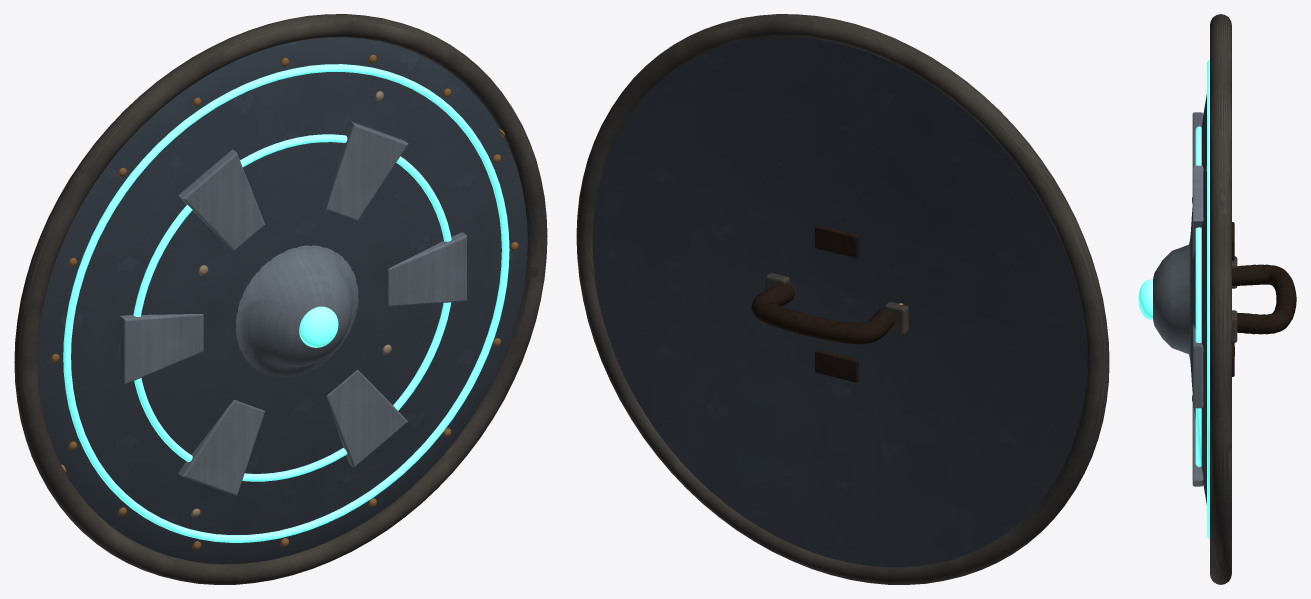
The model's file is kinetic-disc.glb.
3 renders of one model, left to right at view 1: azimuth 30°, elevation 25°; view 2: azimuth 150°, elevation 25°; view 3: azimuth 270°, elevation 25°, orthographic. The views are drawn at different scales.
Visible parts, largest first — view 1: ceramic / ceramic composite panel, alloy / machined anodized alloy, iron / hammer-scaled wrought iron, energy / emissive field channel, bronze / cast bronze with patina; view 2: ceramic / ceramic composite panel, iron / hammer-scaled wrought iron, leather / oiled leather wrap; view 3: iron / hammer-scaled wrought iron, alloy / machined anodized alloy, energy / emissive field channel, leather / oiled leather wrap, ceramic / ceramic composite panel.
Part boxes in pixels (x1,y1,x2,y2): ceramic / ceramic composite panel: [37, 37, 527, 564]; alloy / machined anodized alloy: [119, 121, 466, 495]; iron / hammer-scaled wrought iron: [14, 14, 547, 584]; energy / emissive field channel: [63, 64, 509, 542]; bronze / cast bronze with patina: [50, 54, 518, 550]; ceramic / ceramic composite panel: [592, 36, 1086, 567]; iron / hammer-scaled wrought iron: [576, 14, 1109, 584]; leather / oiled leather wrap: [751, 225, 894, 382]; iron / hammer-scaled wrought iron: [1210, 14, 1237, 584]; alloy / machined anodized alloy: [1153, 112, 1203, 486]; energy / emissive field channel: [1138, 60, 1209, 538]; leather / oiled leather wrap: [1232, 222, 1296, 376]; ceramic / ceramic composite panel: [1190, 94, 1206, 504].
Size of the model in its own units: 0.624 by 0.6236 by 0.1729.
8 materials, 5 textured.
